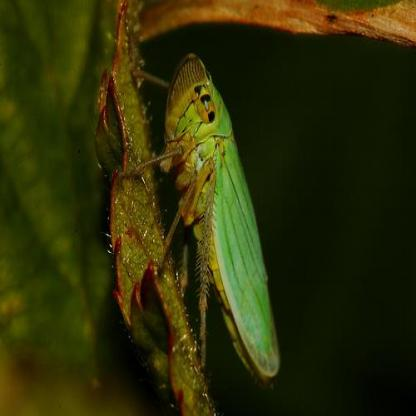Green-Leafhopper: (112, 54, 284, 382)
